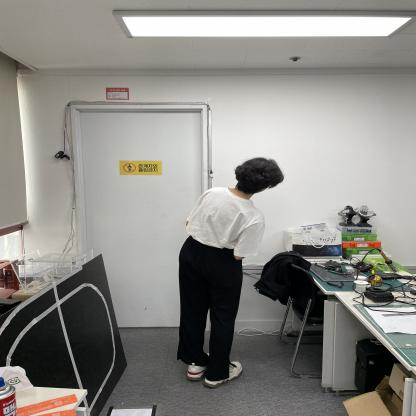normal: (177, 144, 281, 389)
